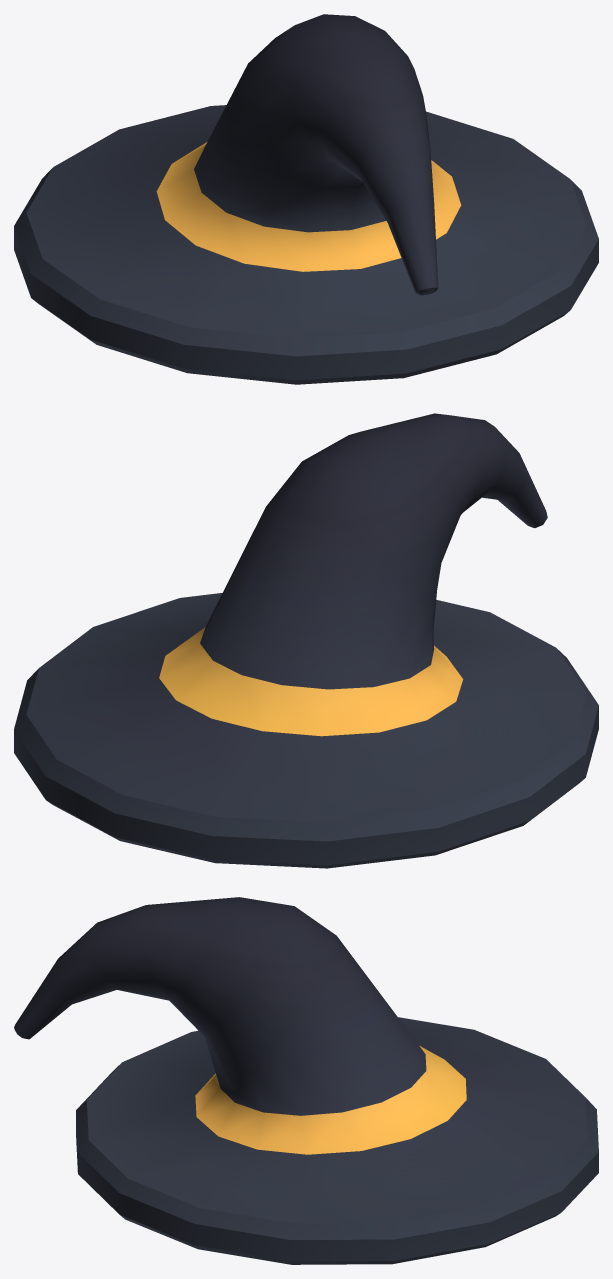
The model's file is Hat.obj.
3 views of the same model, one above another, from view 1: azimuth 30°, elevation 25°; view 2: azimuth 150°, elevation 25°; view 3: azimuth 270°, elevation 25° (orthographic). The views are drawn at different scales.
Parts seen in each view (by area): view 1: Hat; view 2: Hat; view 3: Hat.
Boxes of the visible parts, x1,y1,x2,y2 form: Hat: [14, 14, 598, 384]; Hat: [14, 413, 598, 868]; Hat: [14, 897, 598, 1264].
Size of the model in its own units: 0.3338 by 0.1767 by 0.3782.
